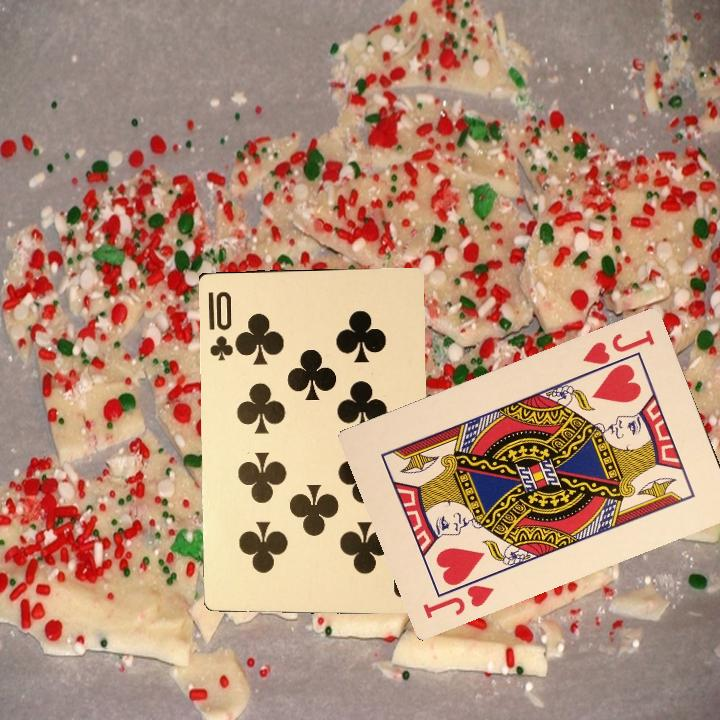10c: (203, 287, 235, 363)
Jh: (578, 325, 657, 378), (419, 570, 497, 622)
